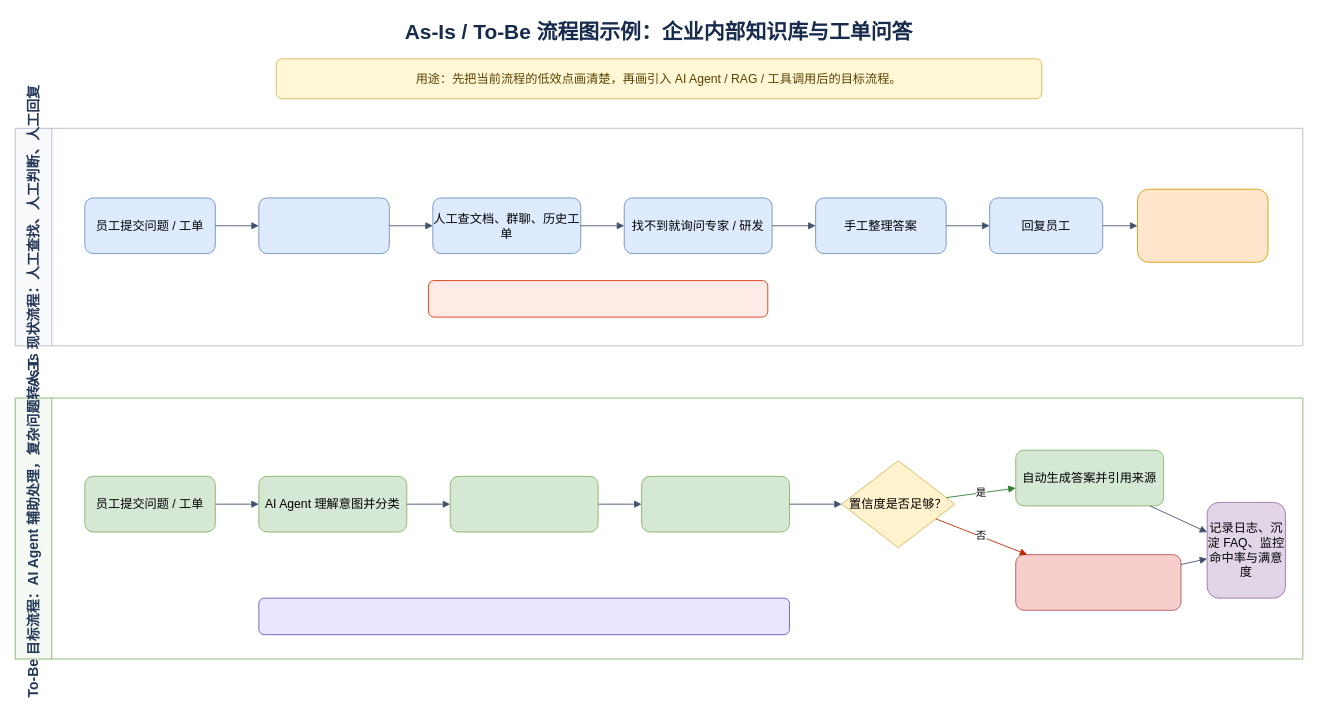
Some shapes in this 1318 by 713 pixel diagram are drawn without their labels. Here are the shapes that lost their labels. From the top down, the centre of each, then its label:
[323,225]: 运营 / 支持人员接单
[1202,225]: 知识沉淀不稳定，重复问题继续出现
[598,298]: 痛点：响应慢、依赖个人经验、重复劳动多
[523,503]: RAG 检索知识库 / 历史工单
[715,503]: 调用业务系统工具查询状态
[1098,582]: 低置信度 / 高风险问题转人工审批
[524,616]: 目标价值：缩短响应时间，减少重复人工，保留人工兜底，形成可持续优化的数据闭环。
